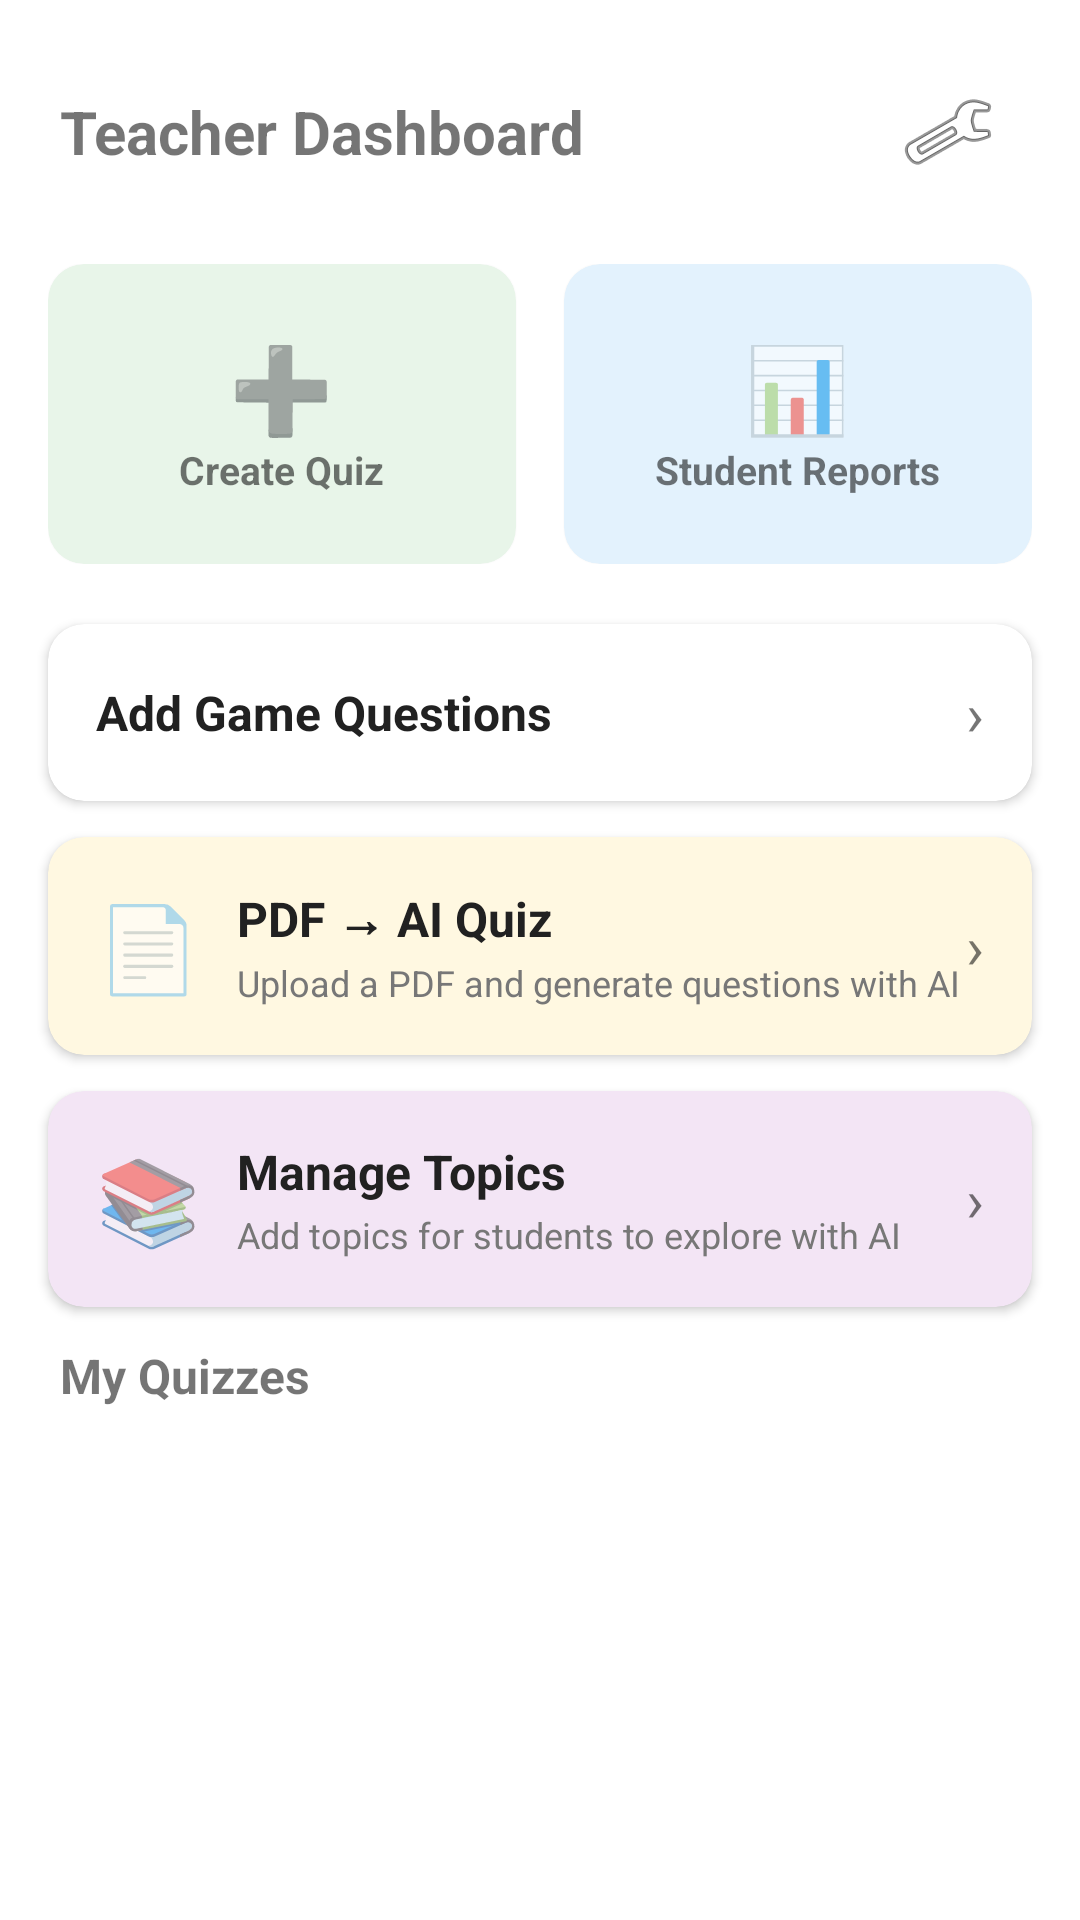

Screen size 1080*1920. Icon name, then its center in pixels as [x,y]:
Settings: [948,132]
